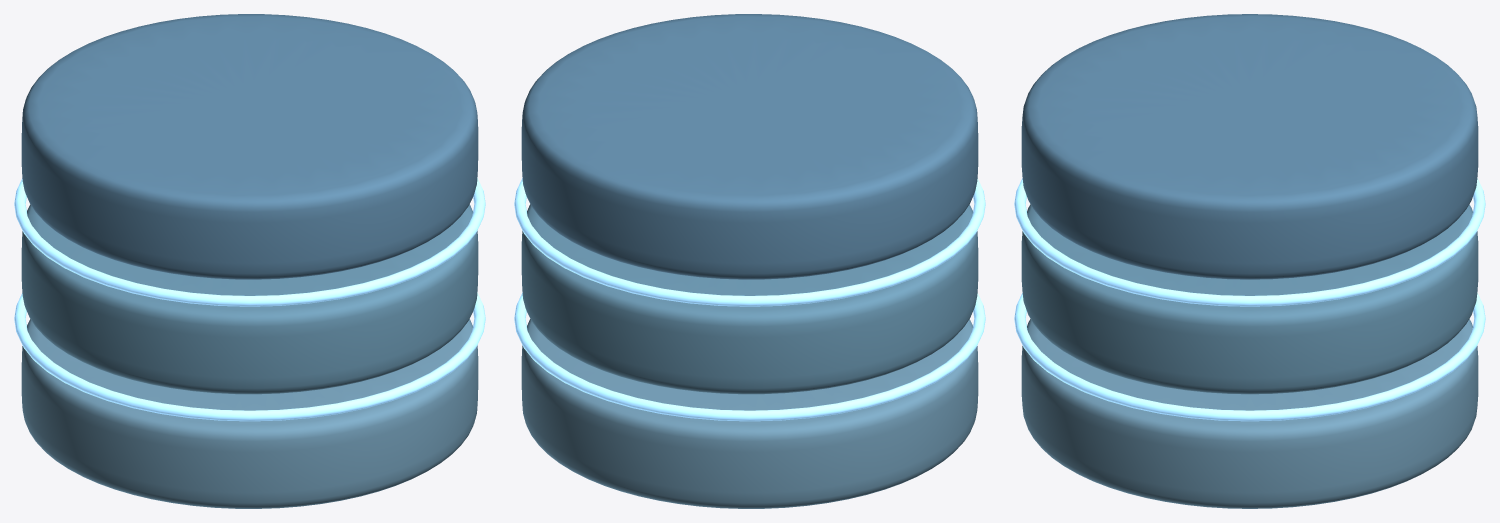
The model's file is database.glb.
3 views of the same model, side by side, from view 1: azimuth 30°, elevation 25°; view 2: azimuth 150°, elevation 25°; view 3: azimuth 270°, elevation 25° (orthographic).
Parts seen in each view (by area): view 1: Cylinder.002, Cylinder.001, Cylinder, Torus, Torus.001; view 2: Cylinder.002, Cylinder.001, Cylinder, Torus, Torus.001; view 3: Cylinder.002, Cylinder.001, Cylinder, Torus.001, Torus.
Part boxes in pixels (box(x1,y1,x2,y2)): Cylinder.002: box(21, 14, 478, 279); Cylinder.001: box(21, 204, 478, 394); Cylinder: box(21, 319, 478, 508); Torus: box(14, 292, 485, 421); Torus.001: box(14, 178, 485, 306); Cylinder.002: box(521, 14, 978, 279); Cylinder.001: box(521, 204, 978, 394); Cylinder: box(521, 319, 978, 508); Torus: box(514, 292, 985, 421); Torus.001: box(514, 178, 985, 306); Cylinder.002: box(1021, 14, 1478, 279); Cylinder.001: box(1021, 204, 1478, 394); Cylinder: box(1021, 319, 1478, 508); Torus.001: box(1014, 178, 1485, 306); Torus: box(1014, 293, 1485, 421).
Bounding box in the file's own units: 0.82 × 0.5999 × 0.82.
